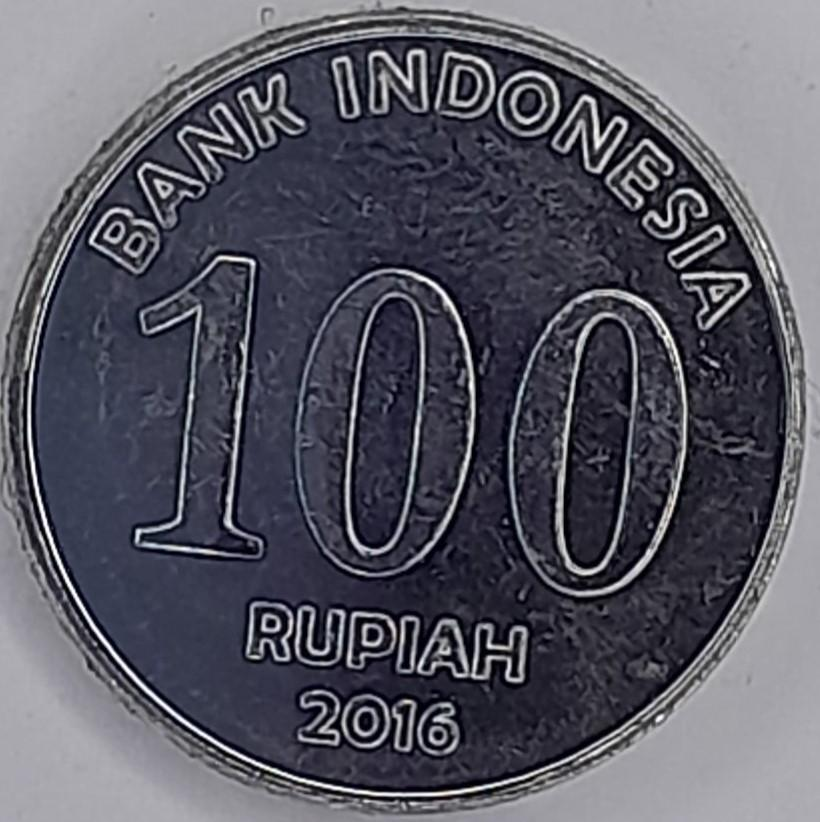coin_100_e2016: (0, 1, 814, 816)
